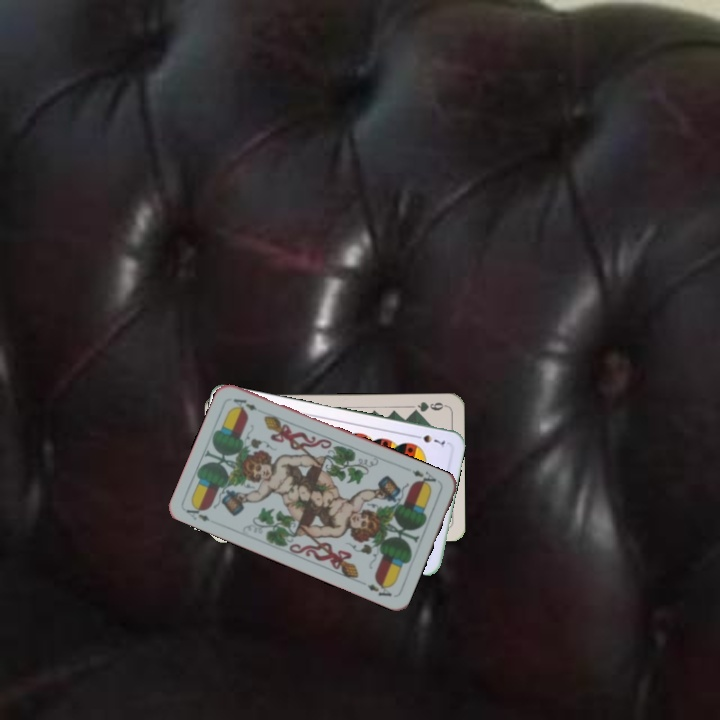EA: (182, 500, 221, 527), (408, 466, 439, 490)
G9: (408, 397, 448, 416)
S7: (409, 431, 448, 450)
